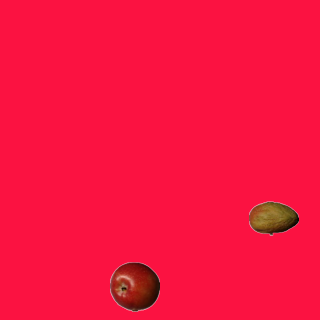Apple Braeburn: (109, 261, 159, 311)
Papaya: (248, 193, 298, 243)
